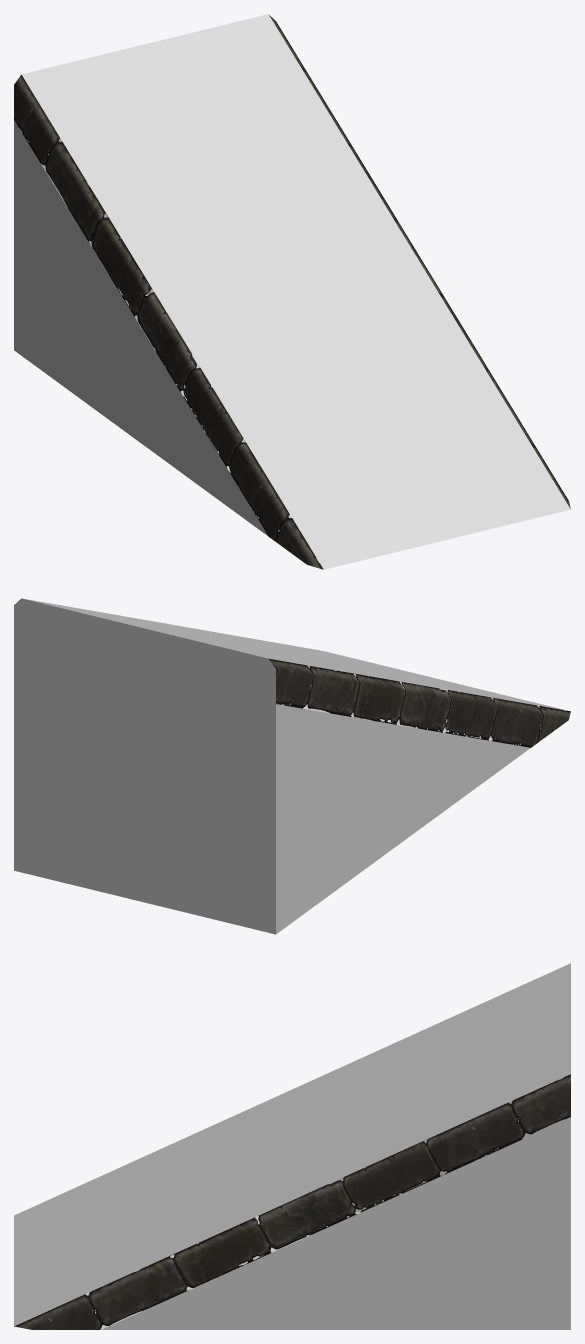
3 views of the same model, one above another, from view 1: azimuth 30°, elevation 25°; view 2: azimuth 150°, elevation 25°; view 3: azimuth 270°, elevation 25° (orthographic). The views are drawn at different scales.
Visible parts, largest first — view 1: SM_Dowdun_Walkway_Steps_4m_02_Fill_LOD0; view 2: SM_Dowdun_Walkway_Steps_4m_02_Fill_LOD0; view 3: SM_Dowdun_Walkway_Steps_4m_02_Fill_LOD0.
Boxes of the visible parts, <box> form: SM_Dowdun_Walkway_Steps_4m_02_Fill_LOD0: <box>14,14,570,569</box>; SM_Dowdun_Walkway_Steps_4m_02_Fill_LOD0: <box>14,598,570,934</box>; SM_Dowdun_Walkway_Steps_4m_02_Fill_LOD0: <box>14,963,570,1329</box>.
Bounding box in the file's own units: 5 × 5 × 10.
2 materials, 1 textured.
